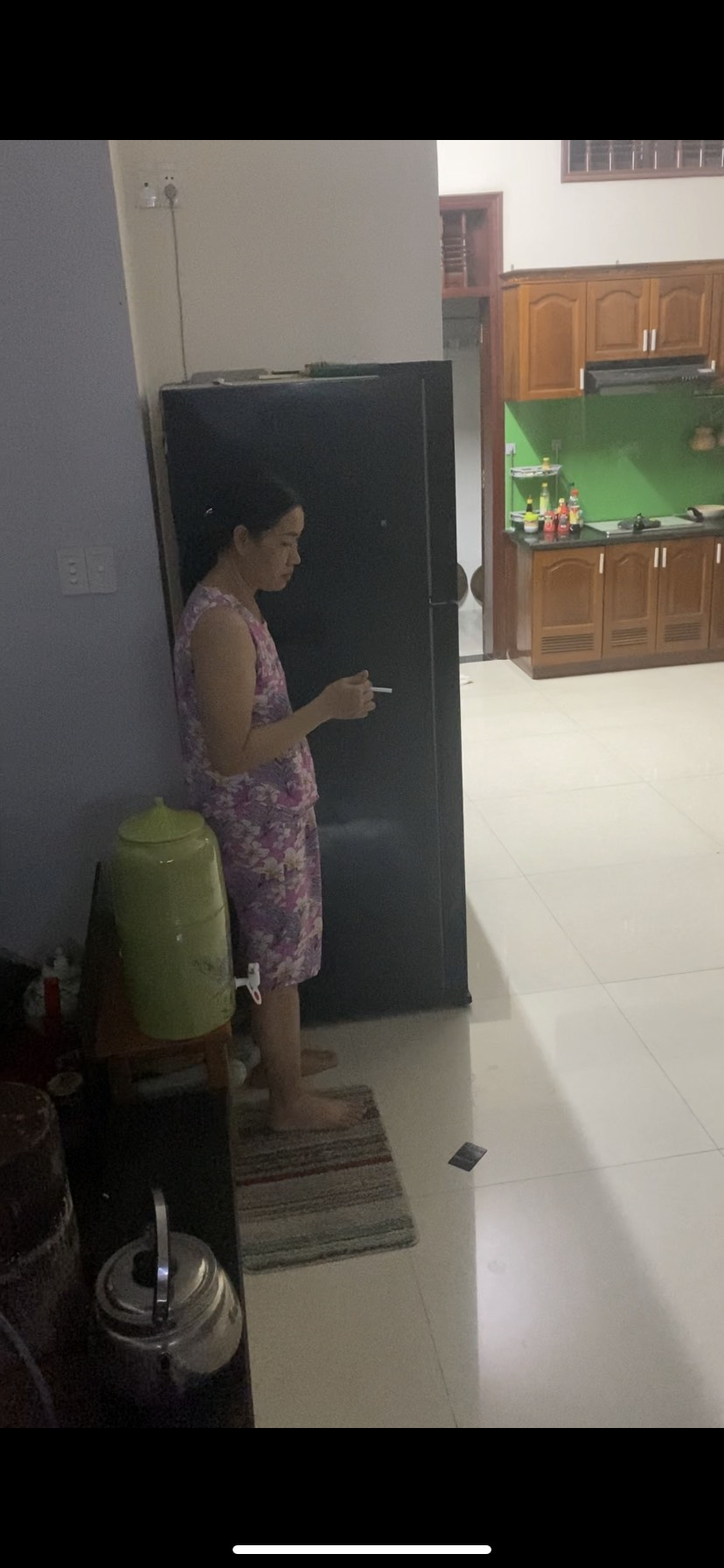cigarette: (370, 683, 397, 698)
person: (175, 481, 380, 1133)
